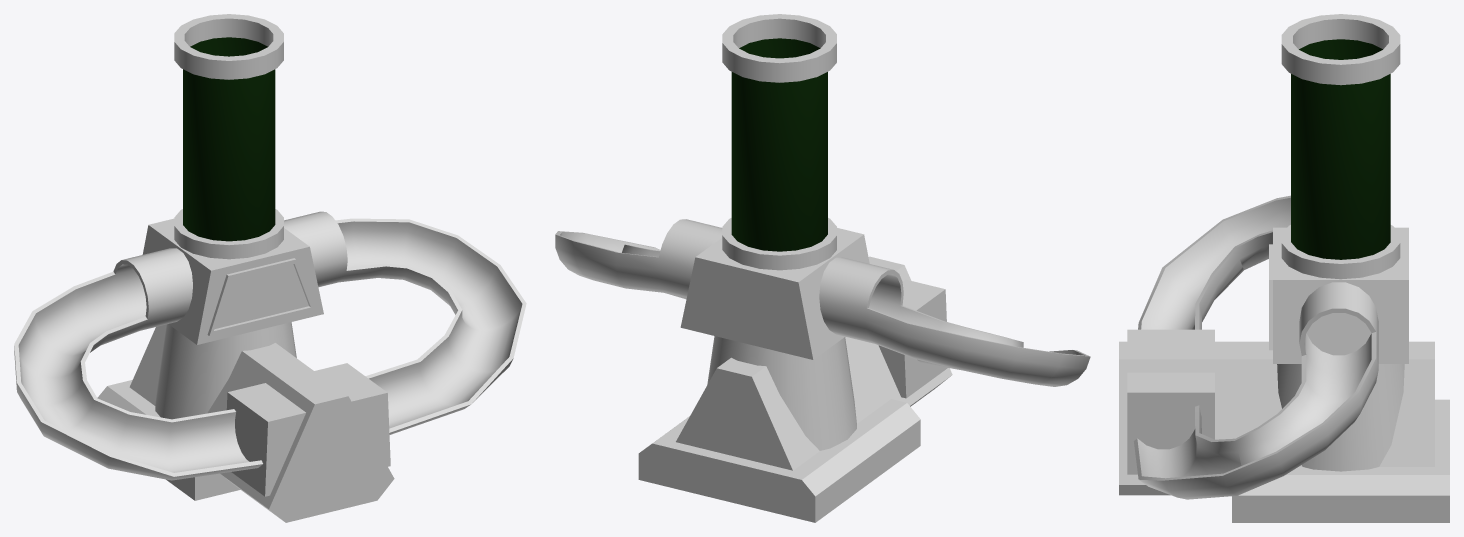
The model's file is Pickup_Skeleton.FBX.
3 views of the same model, side by side, from view 1: azimuth 30°, elevation 25°; view 2: azimuth 150°, elevation 25°; view 3: azimuth 270°, elevation 25° (orthographic). The views are drawn at different scales.
Visible parts, largest first — view 1: PickUp_Base, PickUp_Glass; view 2: PickUp_Base, PickUp_Glass; view 3: PickUp_Base, PickUp_Glass.
Boxes of the visible parts, x1,y1,x2,y2 form: PickUp_Base: (14,14,526,522); PickUp_Glass: (183,37,275,241); PickUp_Base: (555,14,1090,522); PickUp_Glass: (731,38,827,251); PickUp_Base: (1119,14,1449,522); PickUp_Glass: (1291,39,1390,259).
Size of the model in its own units: 334 by 267 by 183.
